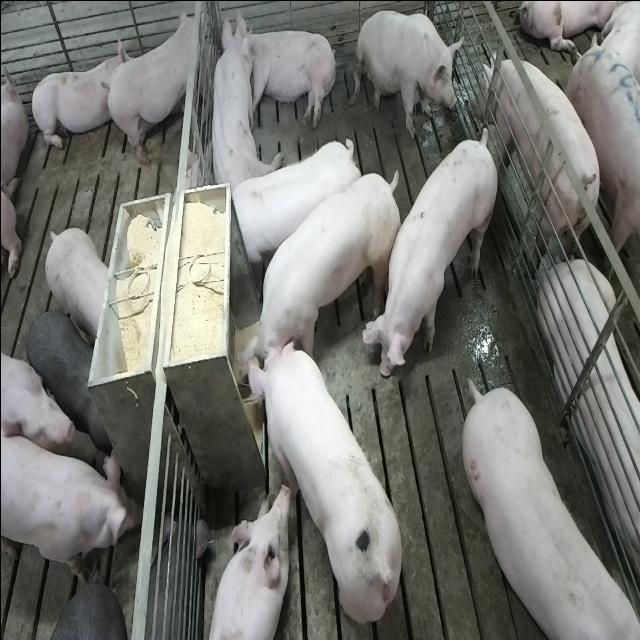Feeding: (240, 335, 404, 624), (235, 167, 403, 386)
Lateral_lying: (244, 15, 339, 130)
Sitting: (355, 8, 462, 138), (205, 14, 268, 194)
Standing: (464, 381, 640, 640), (362, 126, 498, 384), (477, 50, 609, 272), (2, 421, 138, 585), (226, 132, 362, 275), (564, 43, 640, 285), (101, 6, 202, 170), (25, 305, 108, 449), (44, 226, 108, 342), (38, 570, 124, 638)
Sternal_lying: (540, 262, 640, 606), (202, 482, 291, 640), (28, 38, 123, 154)
